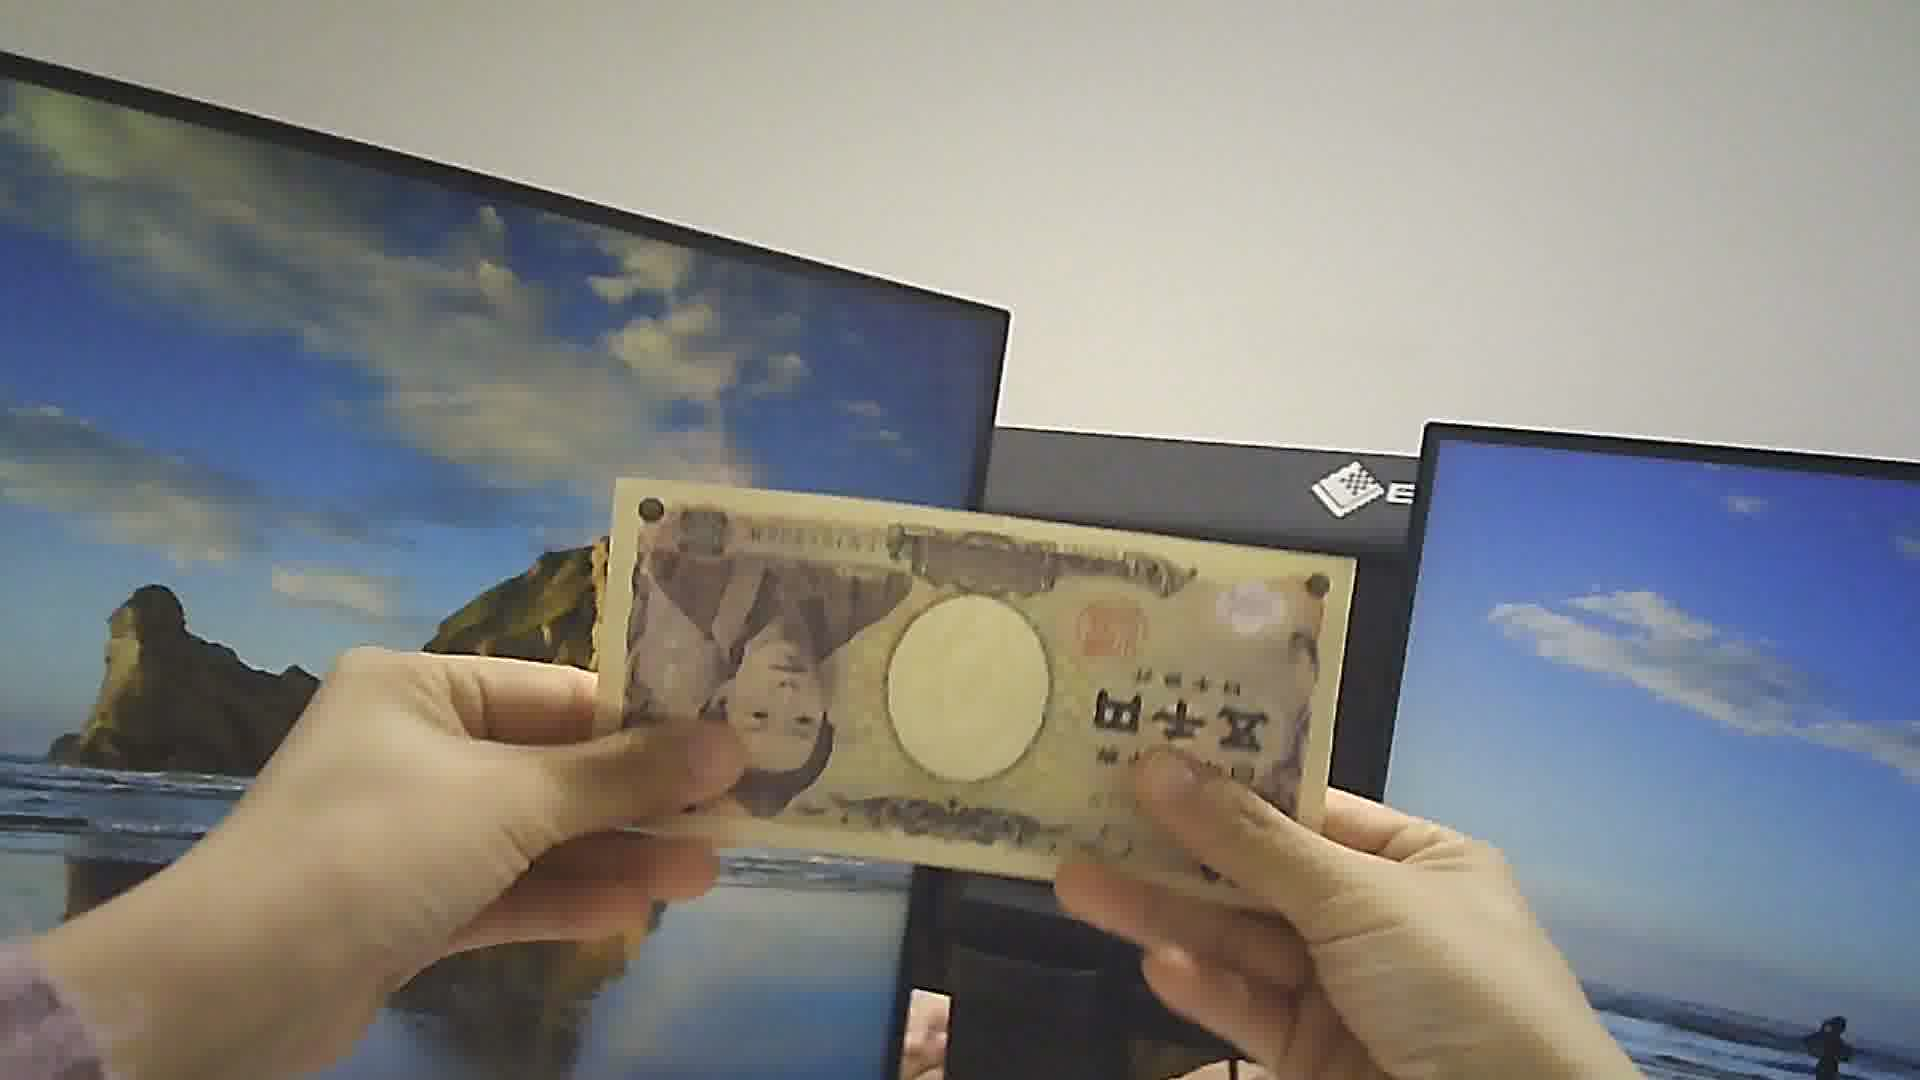5,000 Yen: (585, 473, 1333, 887)
